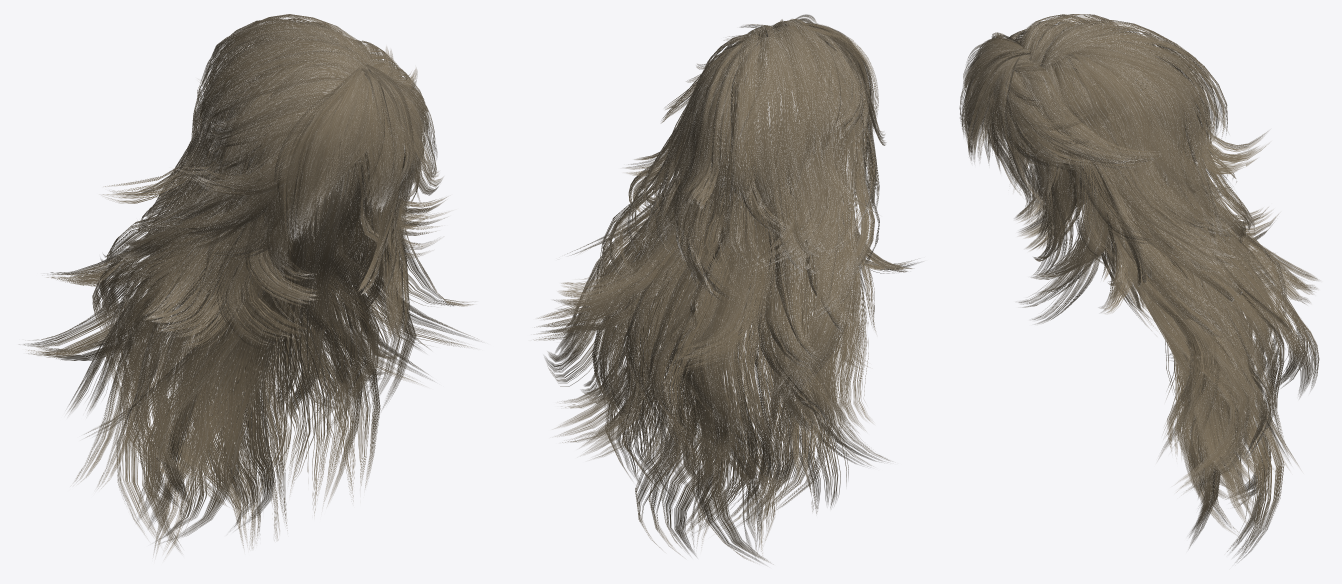
The model's file is Female Hair.glb.
3 renders of one model, left to right at view 1: azimuth 30°, elevation 25°; view 2: azimuth 150°, elevation 25°; view 3: azimuth 270°, elevation 25°, orthographic. The views are drawn at different scales.
Visible parts, largest first — view 1: Hair.02; view 2: Hair.02; view 3: Hair.02.
Part boxes in pixels (box(x1,y1,x2,y2)): Hair.02: box(19, 14, 477, 557); Hair.02: box(534, 14, 920, 563); Hair.02: box(959, 14, 1319, 562).
Bounding box in the file's own units: 0.5293 × 0.6725 × 0.4241.
Materials: 1 (1 with a texture image).
